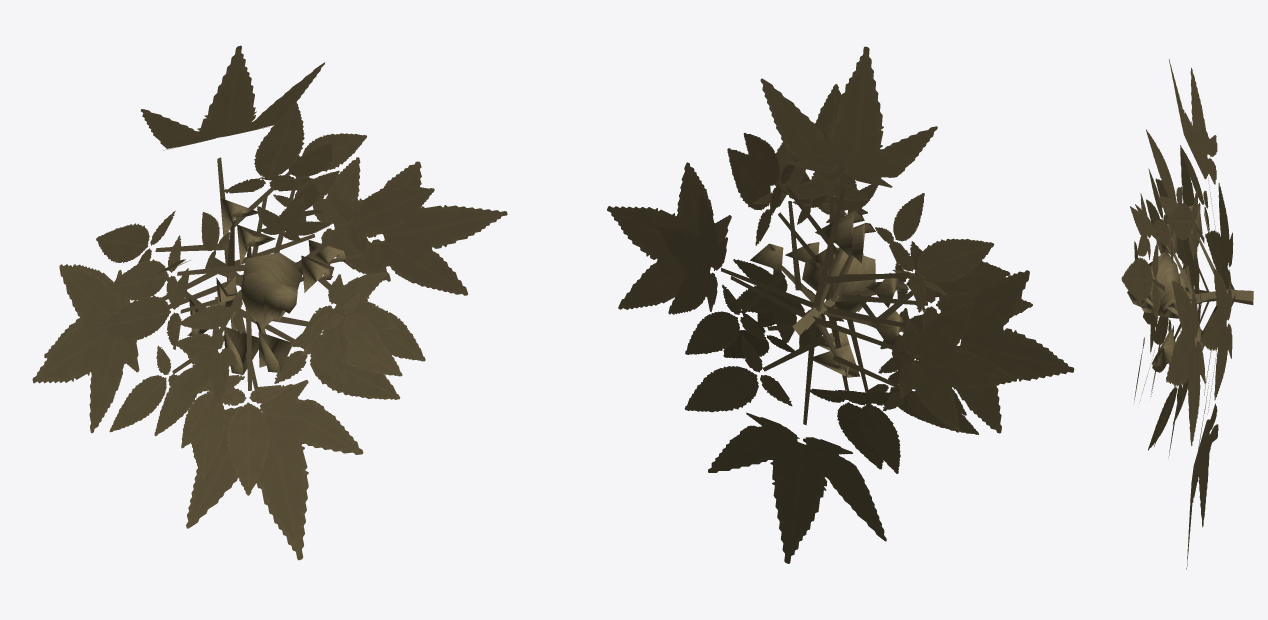
The model's file is p_auto_flowering_c4_cards.obj.
3 renders of one model, left to right at view 1: azimuth 30°, elevation 25°; view 2: azimuth 150°, elevation 25°; view 3: azimuth 270°, elevation 25°, orthographic. The views are drawn at different scales.
Bounding box in the file's own units: 1.34 × 1.37 × 0.329.
Materials: 1 (1 with a texture image).
